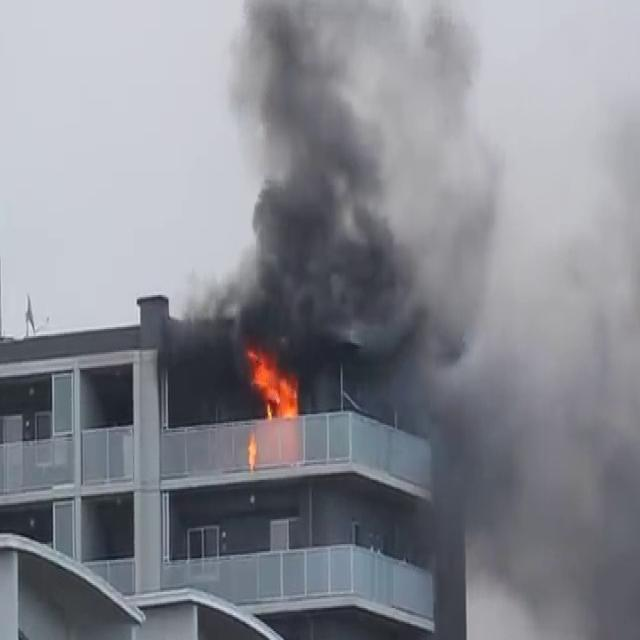Fire: (242, 337, 304, 422)
Smoke: (179, 0, 640, 626), (179, 0, 638, 411)
